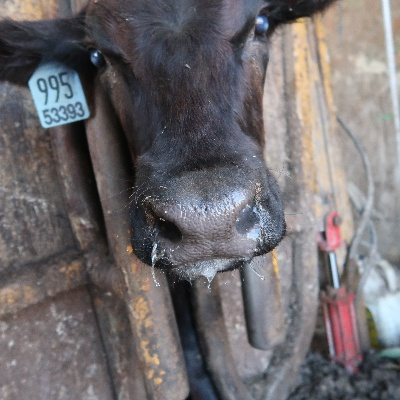fidget_spinner: (141, 174, 270, 282)
